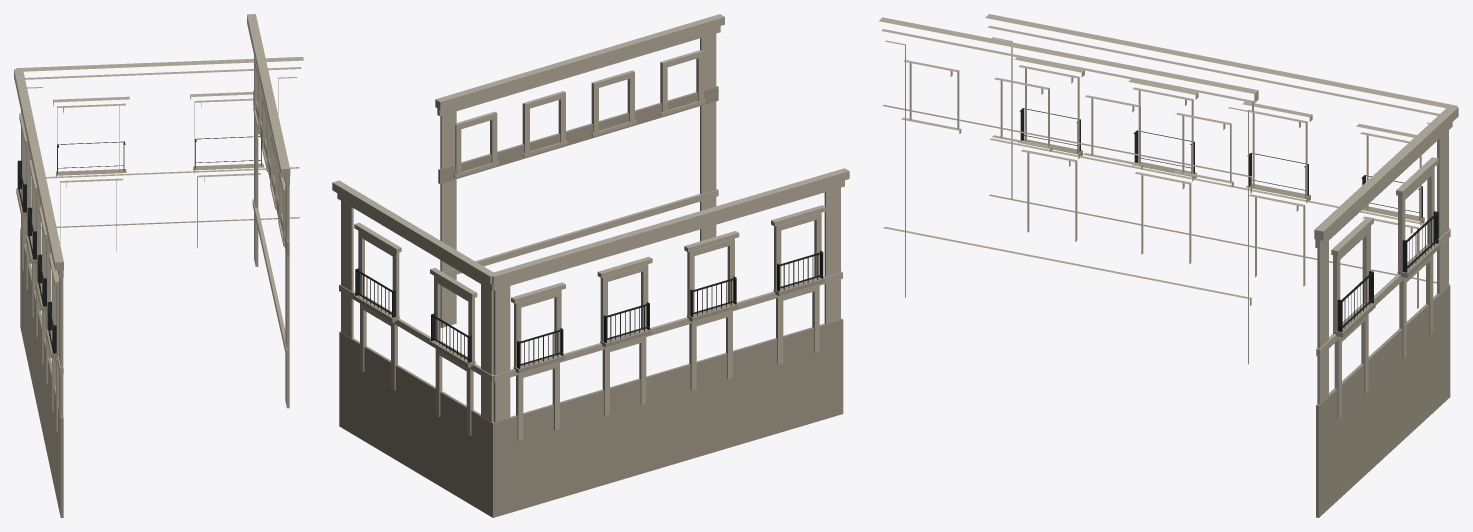
3 renders of one model, left to right at view 1: azimuth 30°, elevation 25°; view 2: azimuth 150°, elevation 25°; view 3: azimuth 270°, elevation 25°, orthographic. The views are drawn at different scales.
Visible parts, largest first — view 1: detail; view 2: detail; view 3: detail.
Part boxes in pixels (x1,y1,x2,y2): detail: (14,14,303,517); detail: (332,14,849,517); detail: (878,14,1458,517).
Size of the model in its own units: 14.16 by 11.65 by 15.95.
